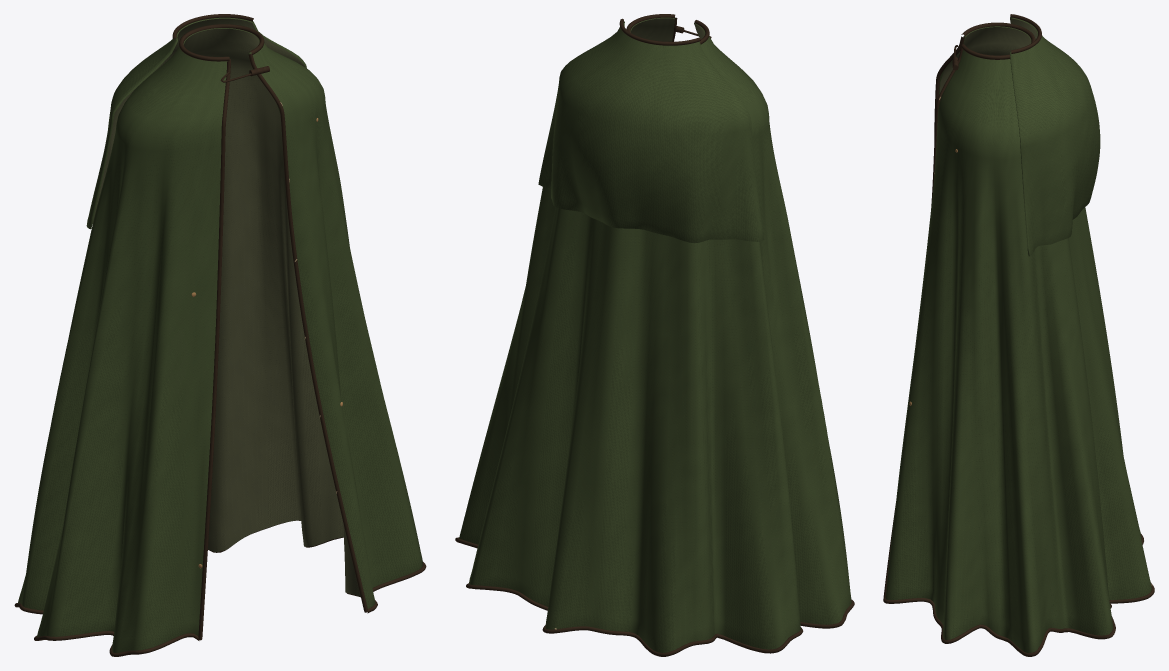
3 views of the same model, side by side, from view 1: azimuth 30°, elevation 25°; view 2: azimuth 150°, elevation 25°; view 3: azimuth 270°, elevation 25° (orthographic). The views are drawn at different scales.
Parts seen in each view (by area): view 1: woven wool, brushed wool lining, oiled strap leather; view 2: woven wool, oiled strap leather, brushed wool lining; view 3: woven wool, oiled strap leather, brushed wool lining.
Part boxes in pixels (x1,y1,x2,y2): woven wool: (18, 17, 422, 652); brushed wool lining: (92, 18, 360, 597); oiled strap leather: (14, 14, 426, 656); woven wool: (459, 17, 851, 652); oiled strap leather: (455, 14, 854, 656); brushed wool lining: (631, 18, 704, 41); woven wool: (885, 17, 1151, 652); oiled strap leather: (883, 14, 1154, 656); brushed wool lining: (940, 18, 1037, 92).
Size of the model in its own units: 0.8427 by 1.22 by 0.5494.
5 materials, 3 textured.
